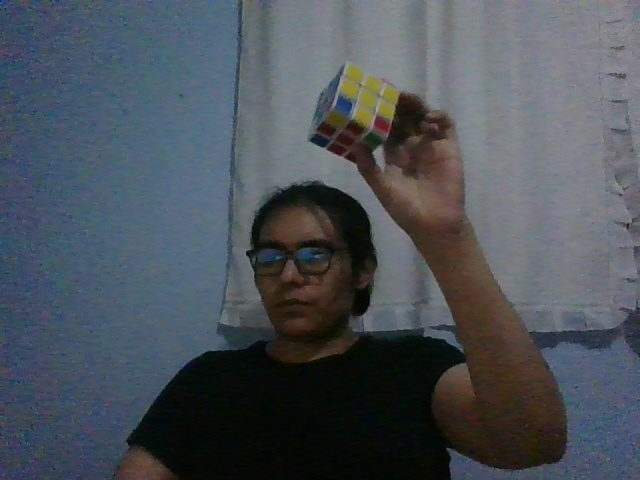rubik: (307, 61, 401, 163)
